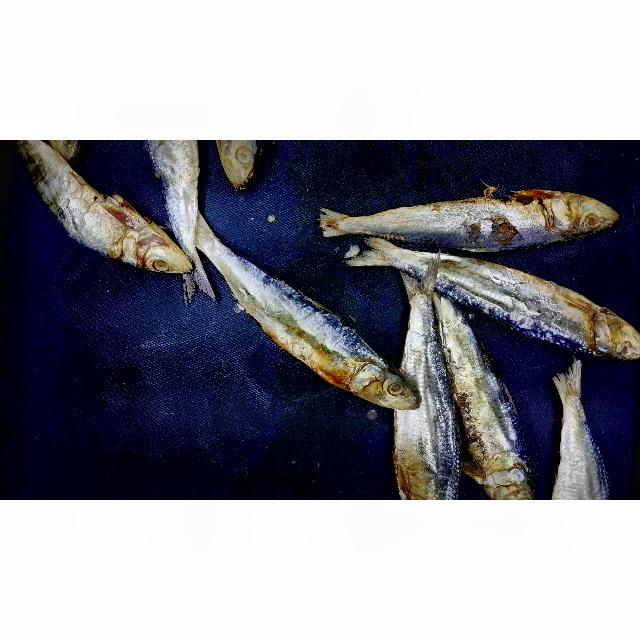Grade_B_Body: (456, 250, 579, 351), (437, 338, 534, 458), (226, 287, 351, 372), (28, 173, 137, 269), (411, 182, 550, 257), (392, 341, 462, 481)
Grade_B_Head: (357, 336, 420, 424), (139, 208, 198, 290), (551, 180, 621, 243), (593, 283, 640, 370)
Grade_B_Tail: (192, 204, 266, 290), (347, 235, 455, 293), (305, 188, 409, 247), (379, 258, 452, 335)
